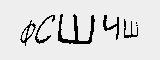В: (101, 17, 127, 37)
Д: (76, 20, 100, 43)
И: (13, 21, 29, 40)
М: (50, 22, 76, 43)
Т: (128, 16, 151, 35)
Ә: (30, 22, 49, 40)
